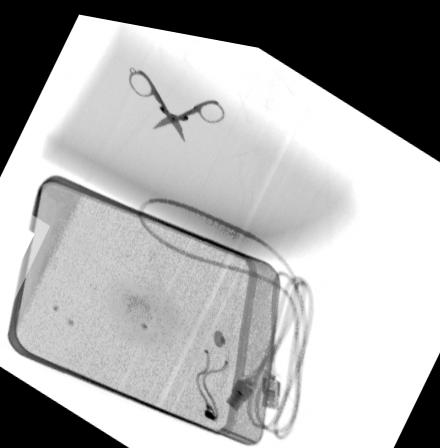Scissors: (128, 64, 224, 136)
